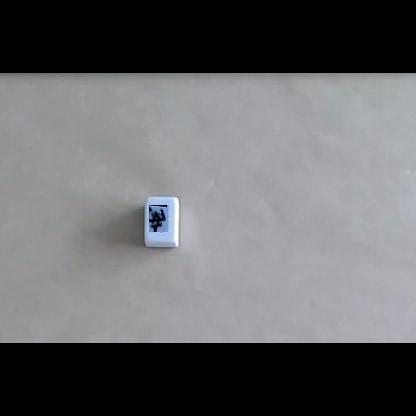2z: (150, 205, 172, 232)
